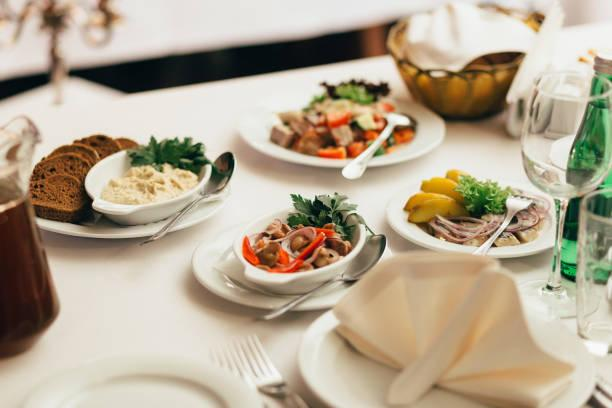Braised Crucian Carp: (188, 195, 400, 322), (15, 132, 212, 240), (235, 79, 447, 174), (388, 170, 578, 261)
